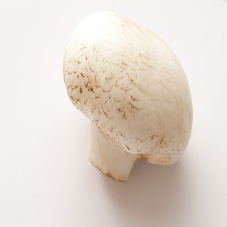mushroom: (60, 10, 196, 188)
